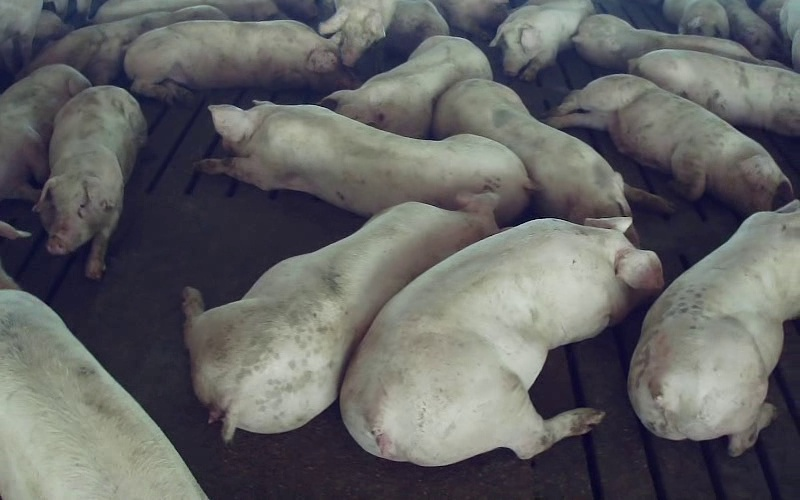pig: (341, 217, 660, 465), (184, 196, 497, 440), (195, 102, 533, 224), (546, 74, 793, 214), (432, 79, 673, 222), (35, 86, 146, 278), (124, 20, 352, 102), (321, 36, 492, 137), (629, 49, 799, 136), (0, 64, 90, 201), (572, 14, 762, 69)
